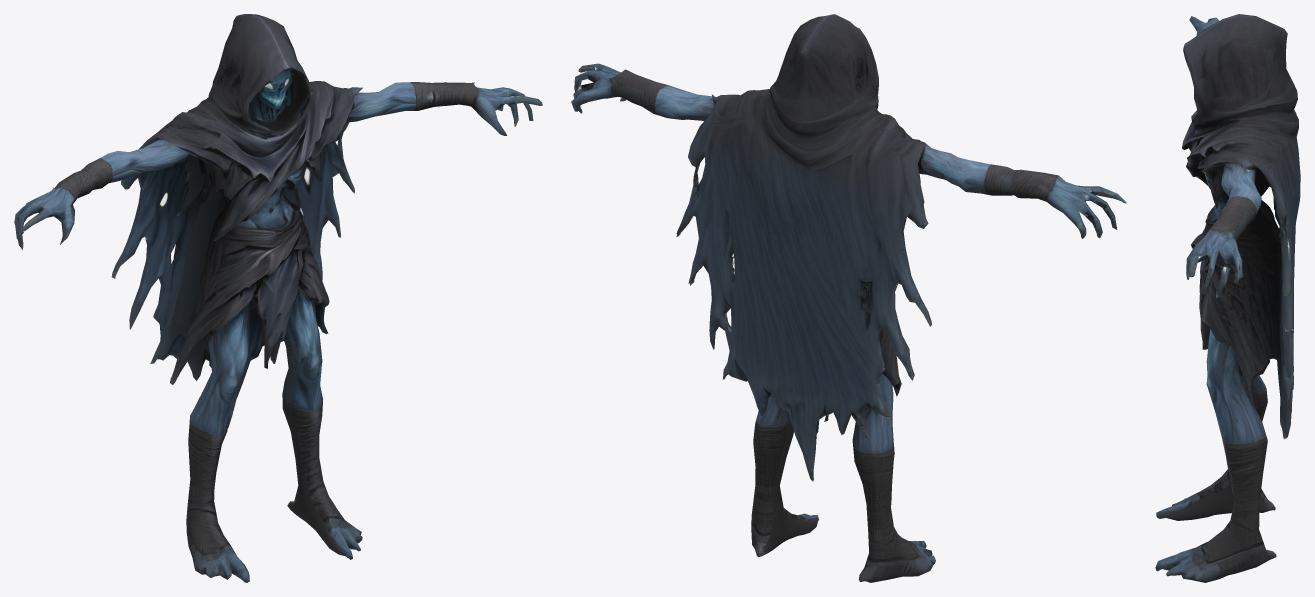
File: base_basic_shaded.glb
3 renders of one model, left to right at view 1: azimuth 30°, elevation 25°; view 2: azimuth 150°, elevation 25°; view 3: azimuth 270°, elevation 25°, orthographic. The views are drawn at different scales.
Visible parts, largest first — view 1: model; view 2: model; view 3: model.
Boxes of the visible parts, bbox=[...] form: model: bbox=[14, 14, 542, 582]; model: bbox=[571, 14, 1126, 582]; model: bbox=[1155, 14, 1300, 582].
Bounding box in the file's own units: 1.87 × 1.8 × 0.4467.
1 material, 1 textured.
